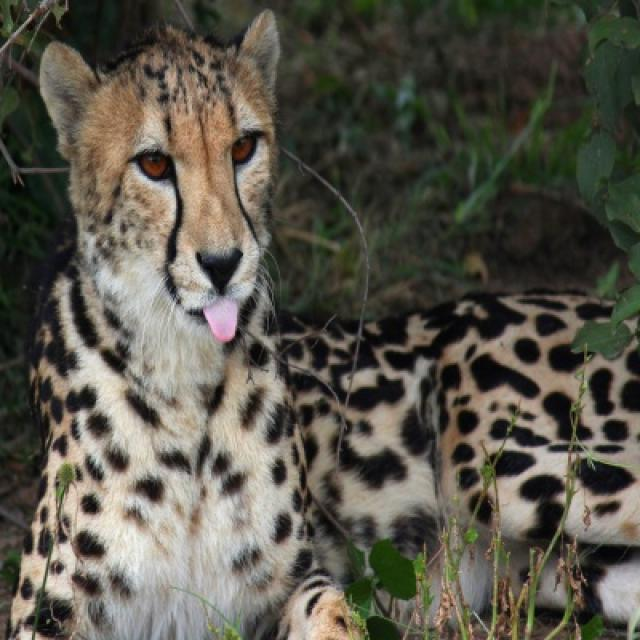Cheetah: (6, 10, 638, 638)
